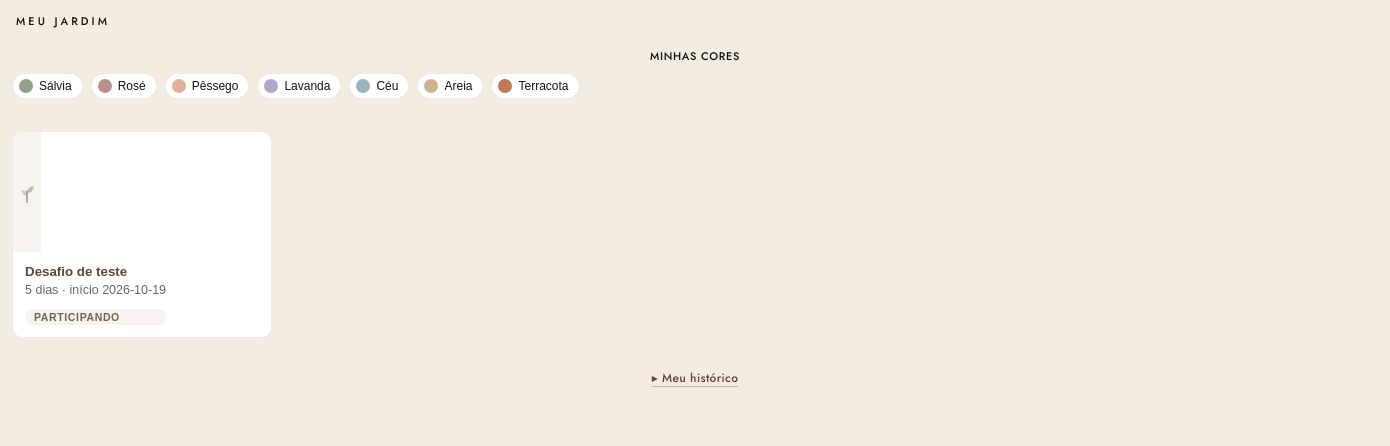
Test: GardenMemberView — Item 3: compartilhamento sem duplicata › mostra "Já compartilhado no feed" e remove por completo a opção de compartilhar de novo
This screenshot has width=1390, height=446.
Click the text "Desafio de teste": [76, 272] box x1=25 y1=264 x2=127 y2=279
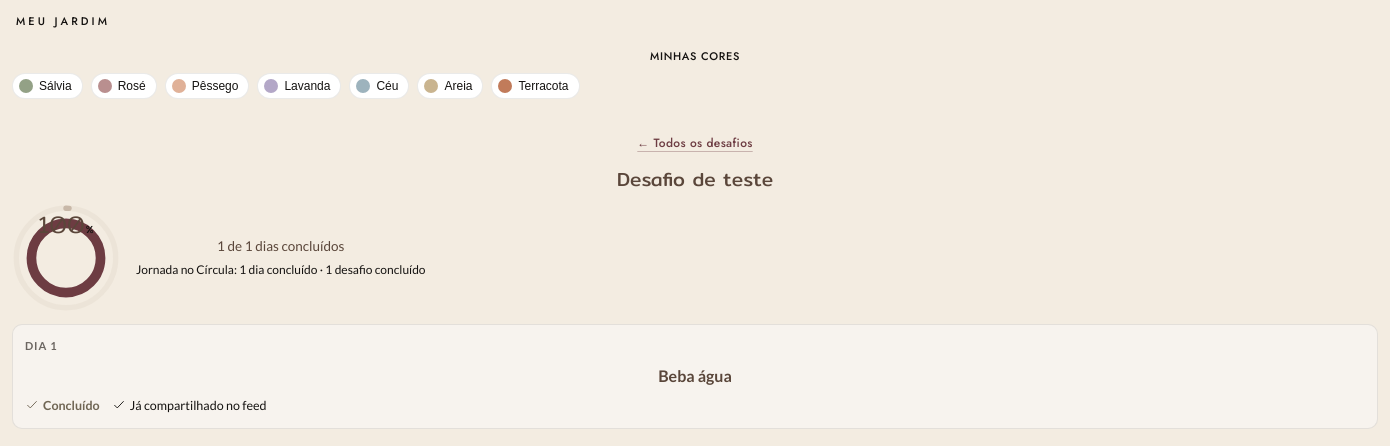
Expected: the text "Já compartilhado no feed" is shown, x1=112 y1=395 x2=267 y2=416
